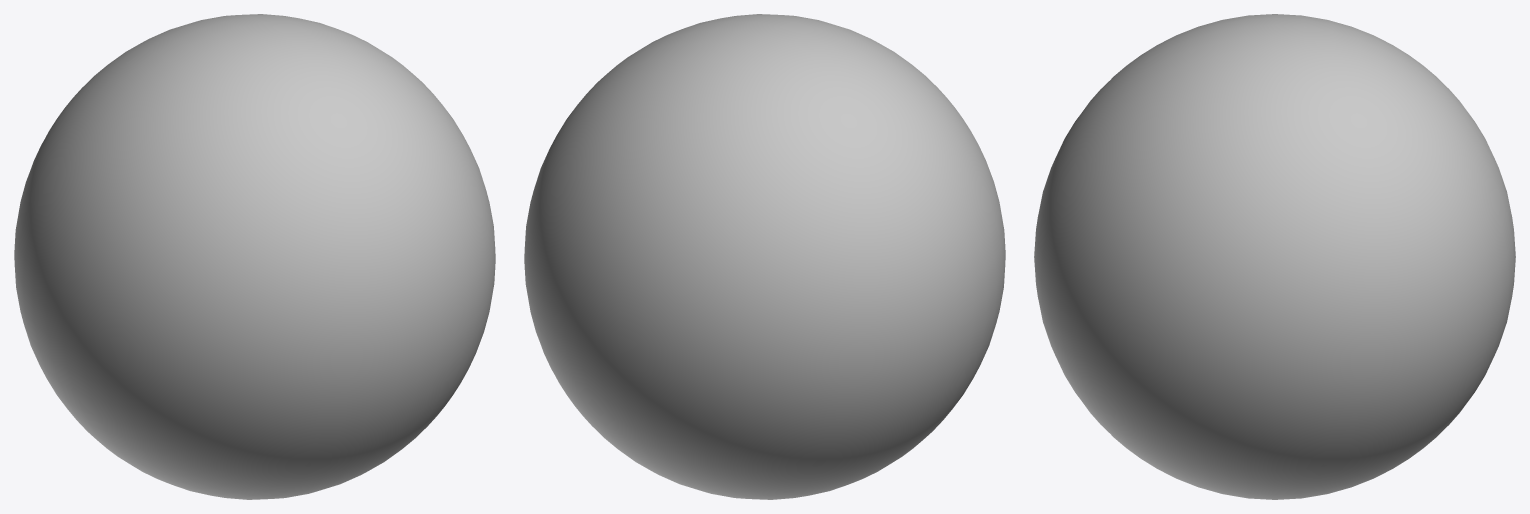
Rendered from hydrogen3d.glb.
3 renders of one model, left to right at view 1: azimuth 30°, elevation 25°; view 2: azimuth 150°, elevation 25°; view 3: azimuth 270°, elevation 25°, orthographic.
Parts seen in each view (by area): view 1: mesh_id27; view 2: mesh_id27; view 3: mesh_id27.
Boxes of the visible parts, box(x1,y1,x2,y2) form: mesh_id27: box(14, 14, 495, 499); mesh_id27: box(524, 14, 1005, 499); mesh_id27: box(1034, 14, 1515, 499).
Bounding box in the file's own units: 0.0686 × 0.0694 × 0.0686.
1 material, 1 textured.
